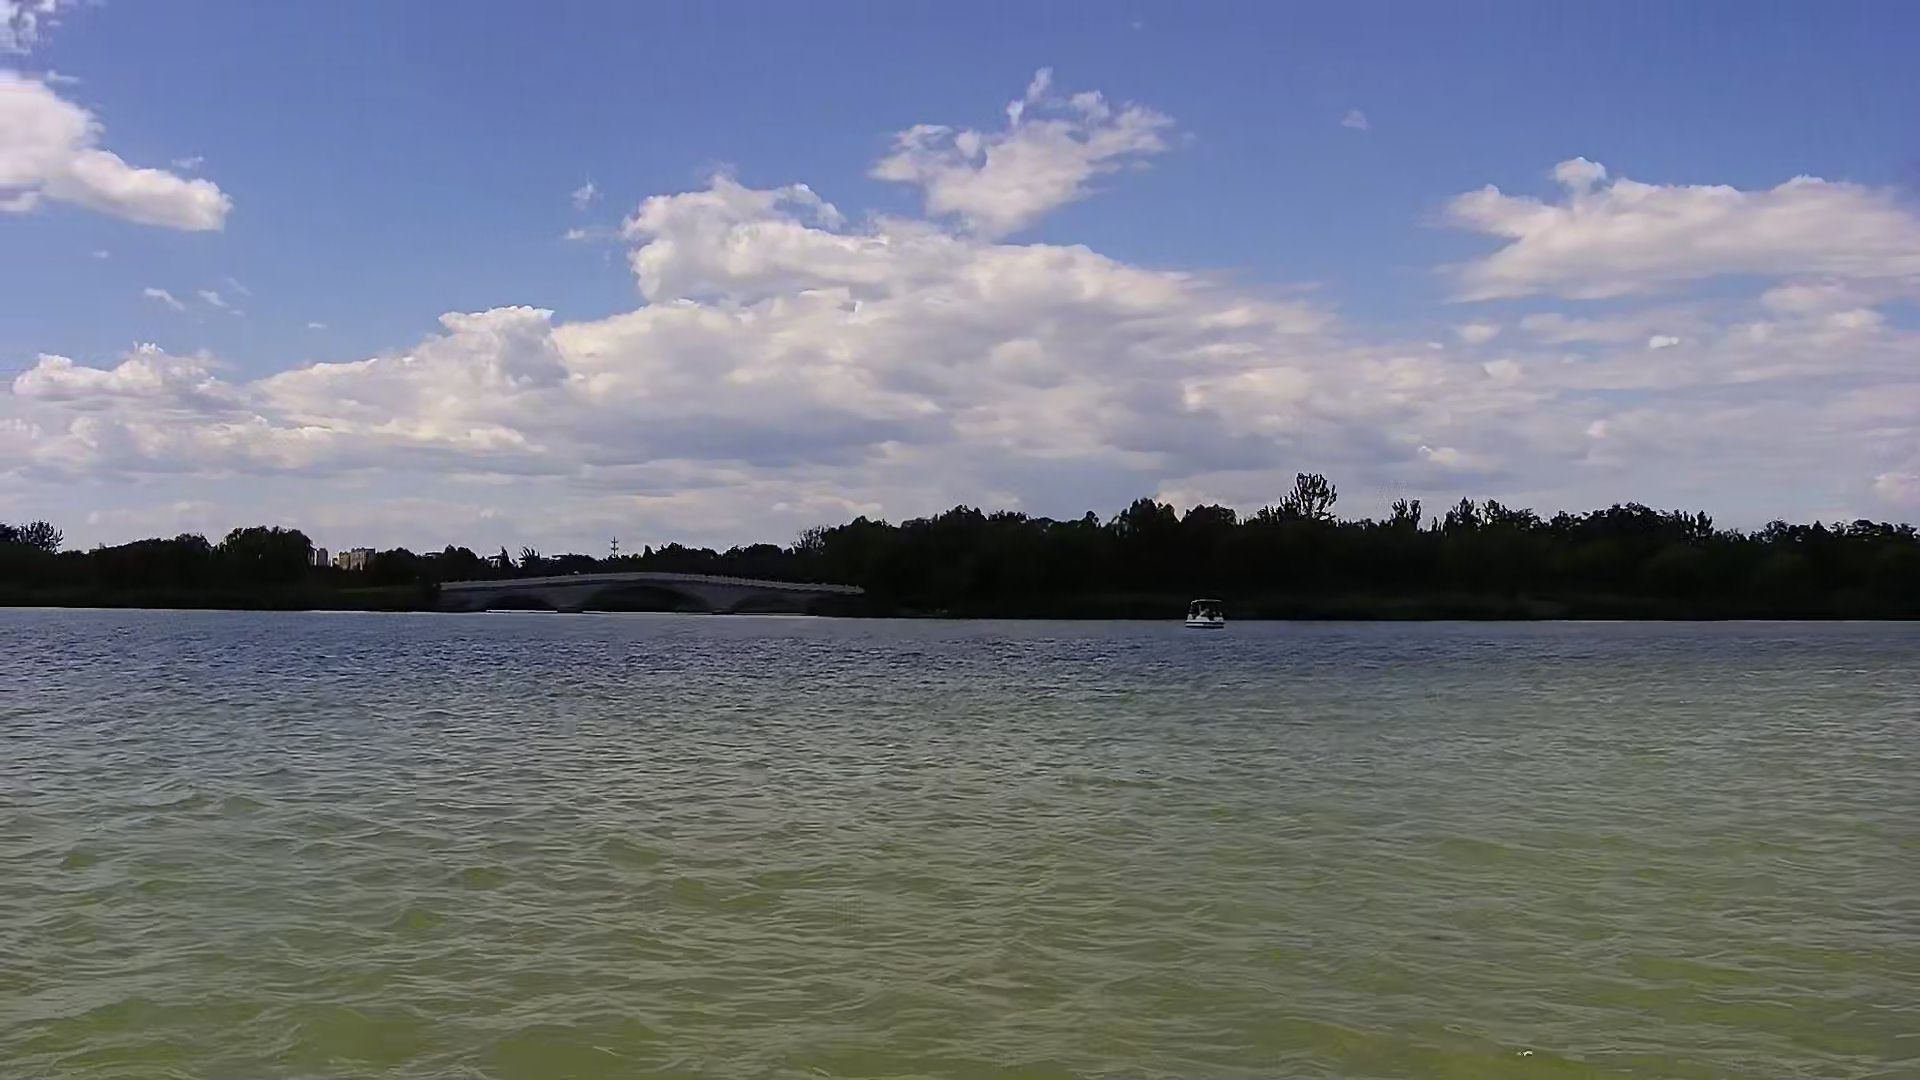boat: (1174, 592, 1236, 636)
bridge: (431, 570, 880, 620)
